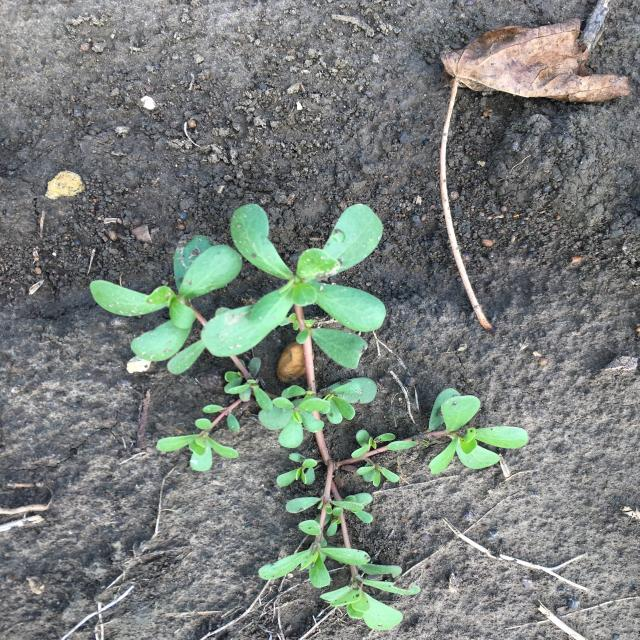Purslane: (90, 204, 528, 631)
